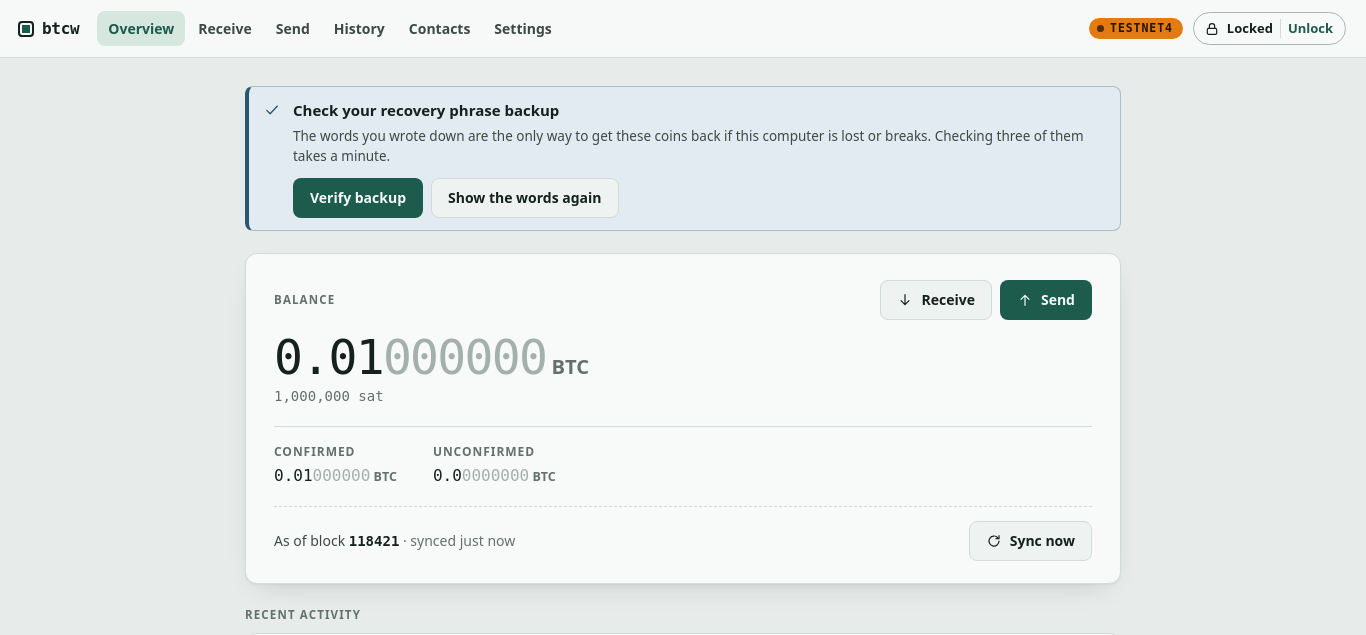
Test: dashboard › says when the node can't be reached and keeps the last numbers
The width and height of the screenshot is (1366, 635).
Expected: the heading "Balance" is shown, [274,291,335,309]
Expected: the text "As of block 118421 · synced just now" is shown, [274,530,515,552]
Click the button "Sync now". click: (1030, 541)
box: [969,521,1092,561]
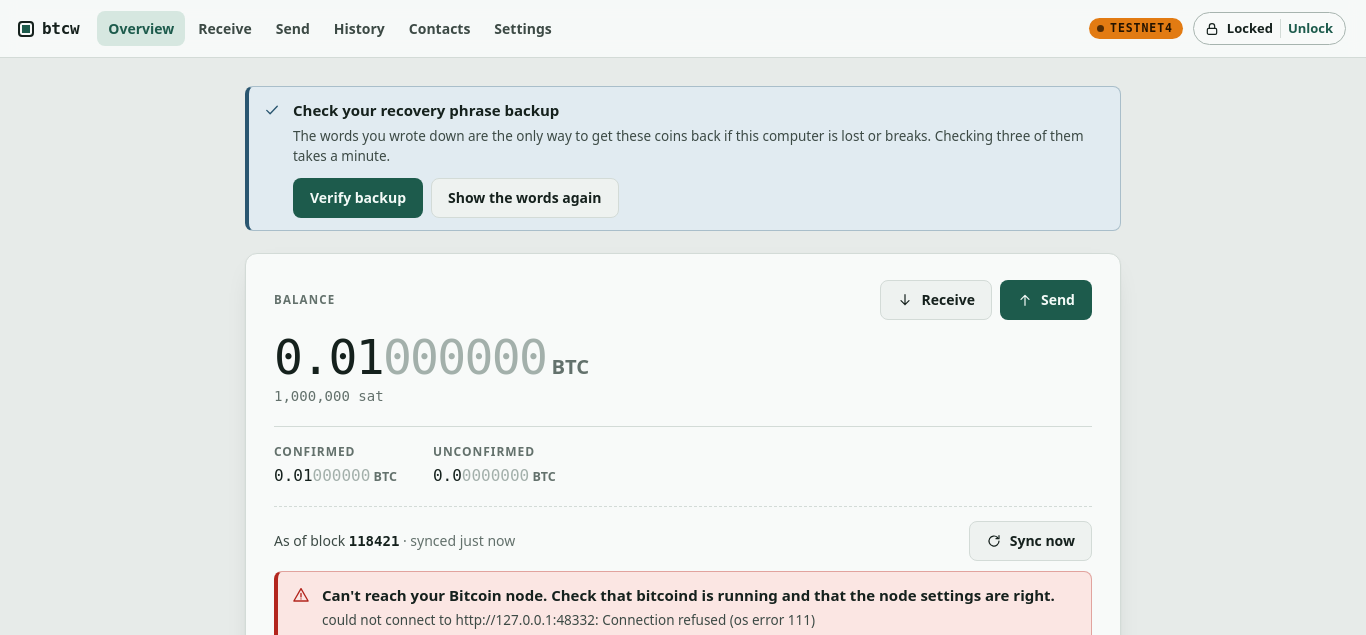
Expected: the text "Can't reach your Bitcoin node" is shown, [322,585,1055,605]
